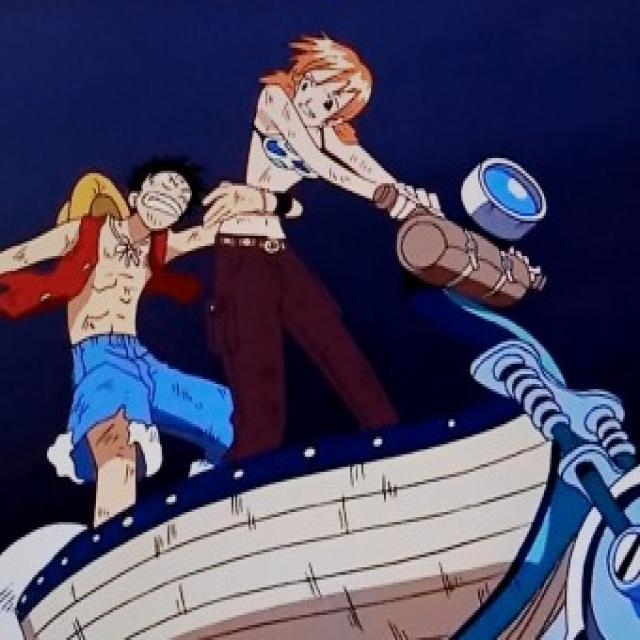Luffy: (47, 143, 215, 245)
Nami: (266, 21, 386, 137)
